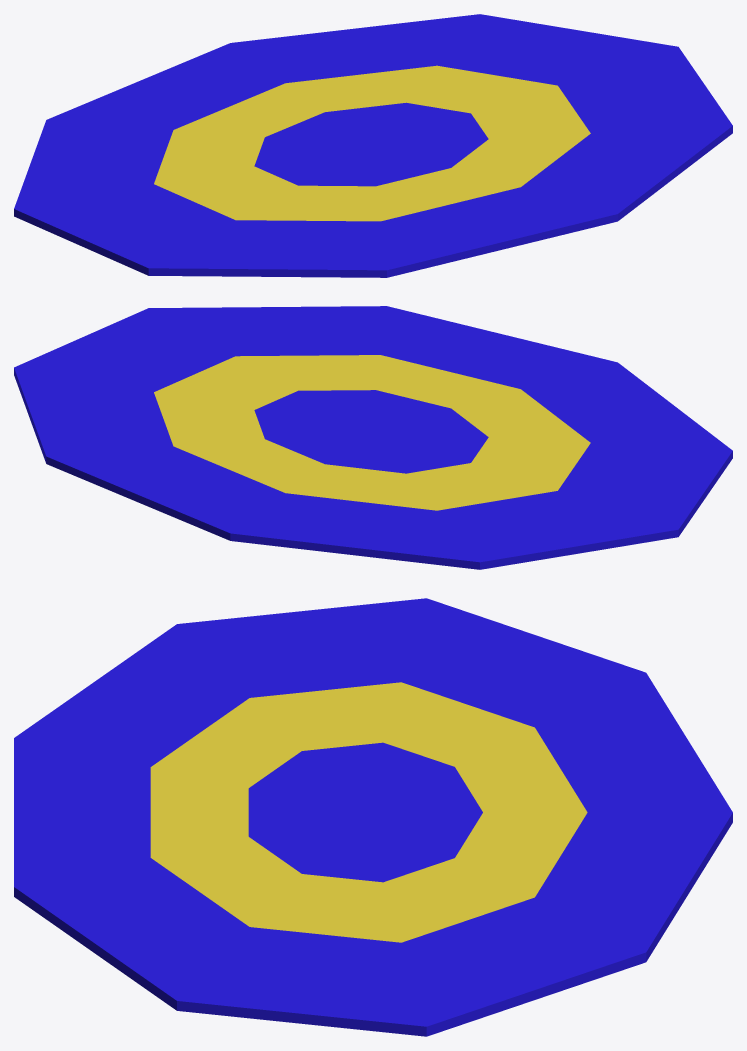
The model's file is CarpetBlue.fbx.
3 views of the same model, one above another, from view 1: azimuth 30°, elevation 25°; view 2: azimuth 150°, elevation 25°; view 3: azimuth 270°, elevation 25° (orthographic). The views are drawn at different scales.
Visible parts, largest first — view 1: Circle; view 2: Circle; view 3: Circle.
Part boxes in pixels (x1=…): Circle: x1=14, y1=14, x2=732, y2=277; Circle: x1=14, y1=306, x2=732, y2=569; Circle: x1=14, y1=598, x2=732, y2=1036.
Bounding box in the file's own units: 85.97 × 0.934 × 60.96.
